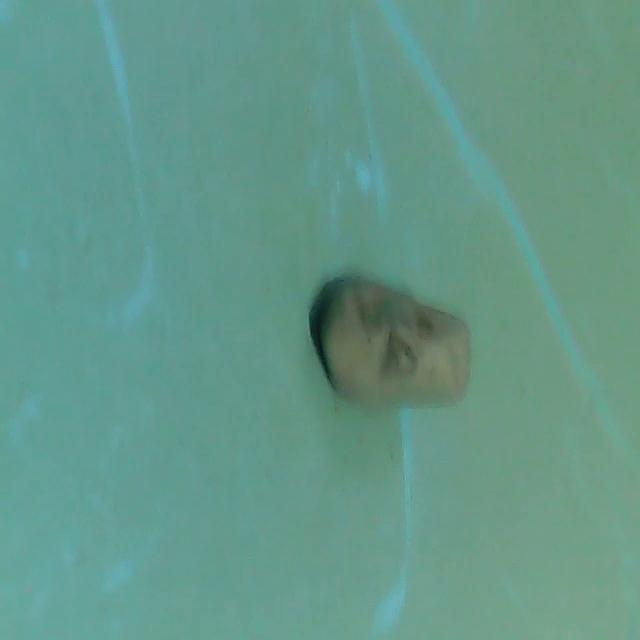rock: (308, 268, 476, 415)
